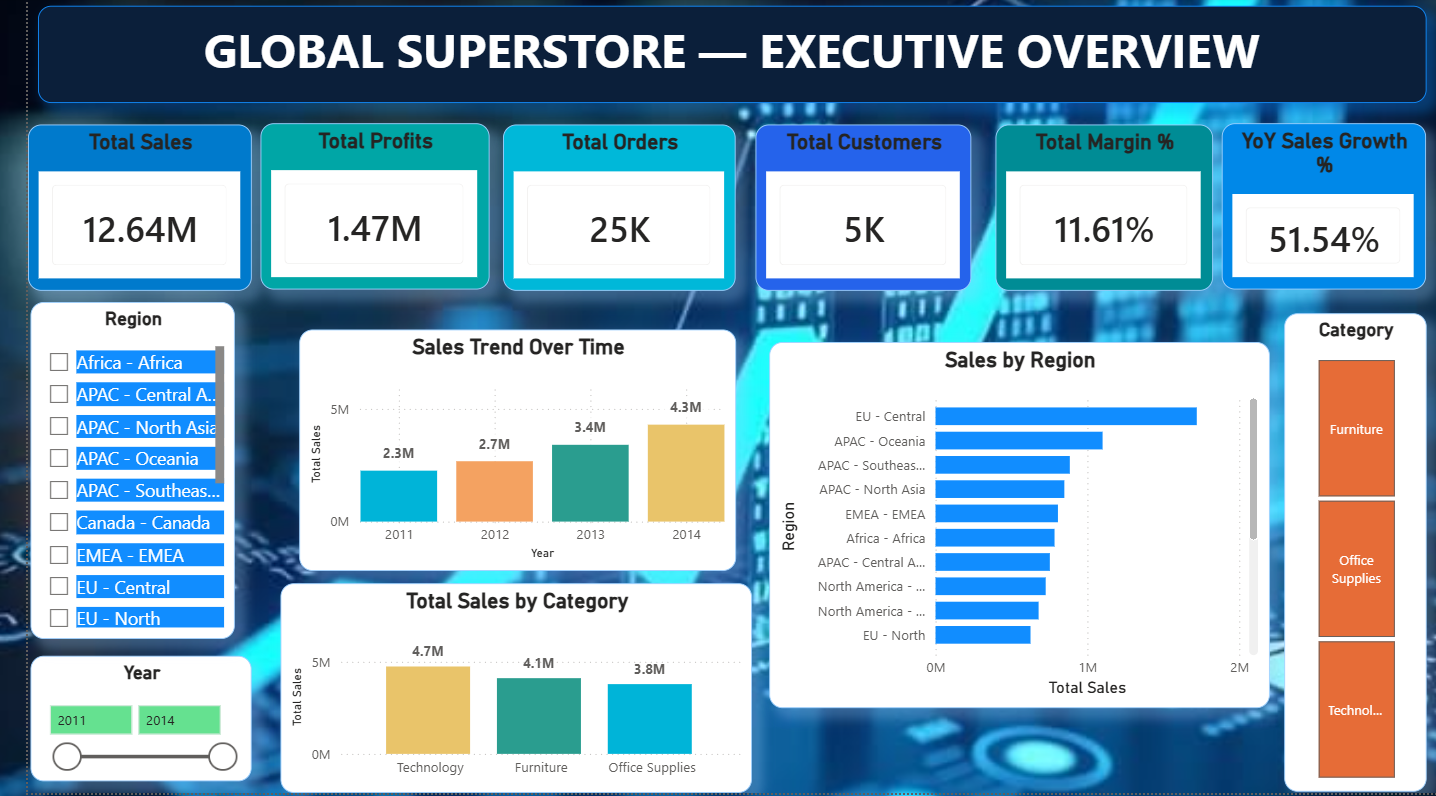

The page's visual inventory and layout, read from the dashboard file:
{"tool":"powerbi","page":{"name":"Executive Overview","canvas":[1280,720],"ordinal":0},"visuals":[{"type":"textbox","box":[9.3,8.1,1255.8,88.4],"z":0},{"type":"cardVisual","title":"Total Sales","fields":{"Data":["FactSales.Total Sales"]},"box":[0,115,202.3,150],"z":1000},{"type":"cardVisual","title":"Total Profits","fields":{"Data":["FactSales.Total Profit"]},"box":[210,113.8,207,150],"z":2000},{"type":"cardVisual","title":"Total Orders","fields":{"Data":["FactSales.Total Orders"]},"box":[430,115,210.5,150],"z":3000},{"type":"cardVisual","title":"Total Customers","fields":{"Data":["FactSales.Total Customers"]},"box":[657.5,115,195.3,150],"z":4000},{"type":"cardVisual","title":"Total Margin %","fields":{"Data":["FactSales.Profit Margin %"]},"box":[875,115,196.5,150],"z":5000},{"type":"cardVisual","title":"YoY Sales Growth %","fields":{"Data":["FactSales.YoY Sales Growth %"]},"box":[1080.2,114,184.9,150],"z":6000},{"type":"lineClusteredColumnComboChart","title":"Sales Trend Over Time","fields":{"Category":["DimDate.Year"],"Y":["FactSales.Total Sales"]},"box":[209.4,292.8,418.7,219.6],"z":7000},{"type":"clusteredColumnChart","fields":{"Category":["FactSales.Category"],"Y":["FactSales.Total Sales"]},"box":[227.9,530.2,426.7,189.5],"z":8000},{"type":"clusteredBarChart","title":" Sales by Region","fields":{"Category":["FactSales.Region"],"Y":["FactSales.Total Sales"]},"box":[670,312.5,452.5,331.2],"z":9000},{"type":"slicer","title":"Year","fields":{"Values":["DimDate.Year"]},"box":[2.3,595.4,200,113.8],"z":10000},{"type":"slicer","title":"Region","fields":{"Values":["FactSales.Region"]},"box":[2.3,275.6,184.9,304.7],"z":11000},{"type":"slicer","title":"Category","fields":{"Values":["FactSales.Category"]},"box":[1137,325.1,129.4,394.9],"z":12000},{"type":"actionButton","box":[1152.3,272.3,100.4,40.9],"z":13000}]}

Visuals, with their boxes in screenshot pixels (x1, y1, x2, y2), scaled from the page's 1280x720 canvas onto the 1436x796 screenshot:
textbox: x1=10, y1=9, x2=1419, y2=107
"Total Sales" cardVisual: x1=0, y1=127, x2=227, y2=293
"Total Profits" cardVisual: x1=236, y1=126, x2=468, y2=292
"Total Orders" cardVisual: x1=482, y1=127, x2=719, y2=293
"Total Customers" cardVisual: x1=738, y1=127, x2=957, y2=293
"Total Margin %" cardVisual: x1=982, y1=127, x2=1202, y2=293
"YoY Sales Growth %" cardVisual: x1=1212, y1=126, x2=1419, y2=292
"Sales Trend Over Time" lineClusteredColumnComboChart: x1=235, y1=324, x2=705, y2=566
clusteredColumnChart - FactSales.Category x FactSales.Total Sales: x1=256, y1=586, x2=734, y2=795
" Sales by Region" clusteredBarChart: x1=752, y1=345, x2=1259, y2=712
"Year" slicer: x1=3, y1=658, x2=227, y2=784
"Region" slicer: x1=3, y1=305, x2=210, y2=642
"Category" slicer: x1=1276, y1=359, x2=1421, y2=795
actionButton: x1=1293, y1=301, x2=1405, y2=346
